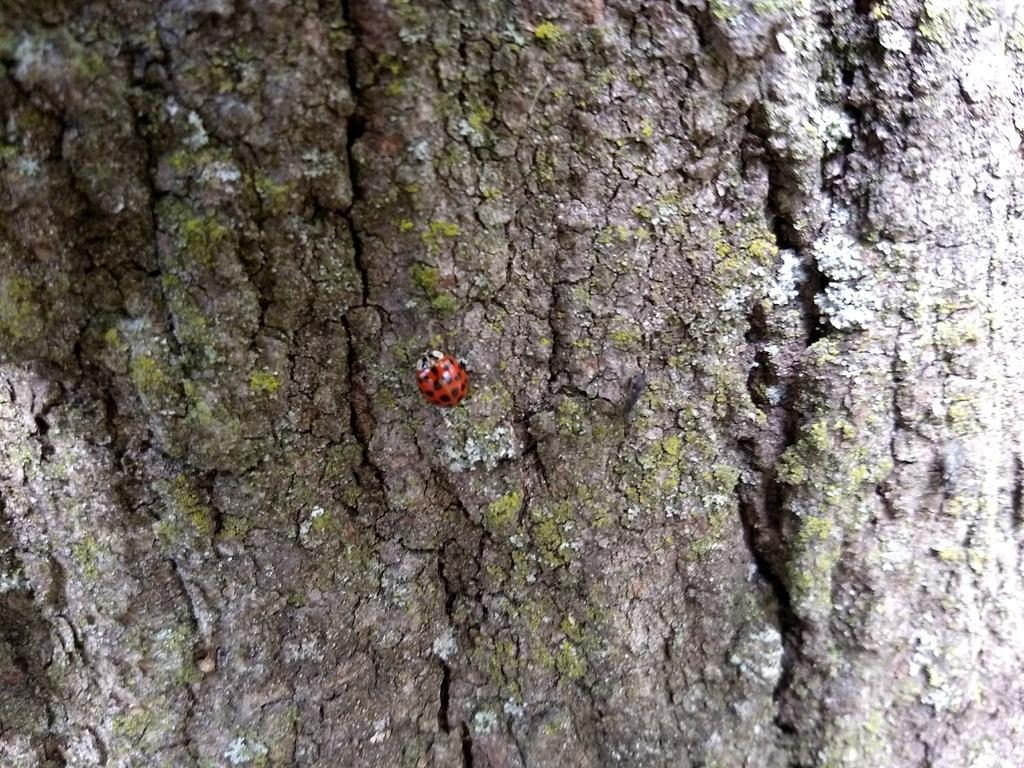ladybug: (410, 345, 474, 412)
